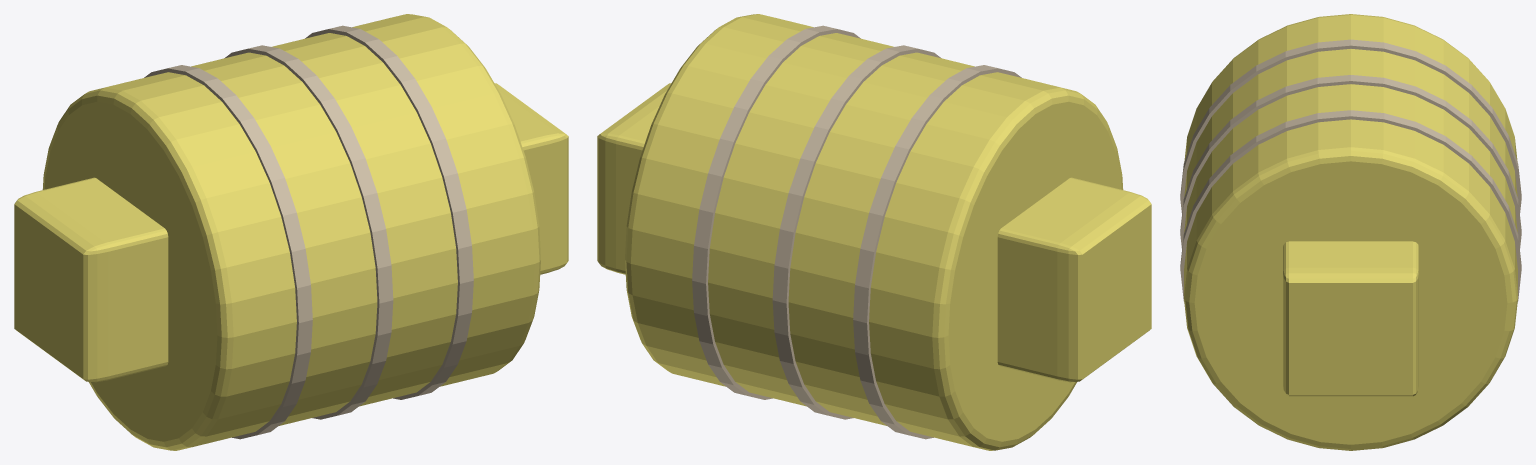
File: animalthings.fbx
3 views of the same model, side by side, from view 1: azimuth 30°, elevation 25°; view 2: azimuth 150°, elevation 25°; view 3: azimuth 270°, elevation 25° (orthographic). The views are drawn at different scales.
Visible parts, largest first — view 1: straw03, straw02; view 2: straw03, straw02; view 3: straw03, straw02.
Part boxes in pixels (box(x1,y1,x2,y2)): straw03: box(42, 14, 540, 450); straw02: box(14, 83, 568, 382); straw03: box(625, 14, 1123, 450); straw02: box(597, 83, 1151, 382); straw03: box(1180, 14, 1521, 450); straw02: box(1283, 241, 1418, 396).
Bounding box in the file's own units: 301 × 204 × 204.
